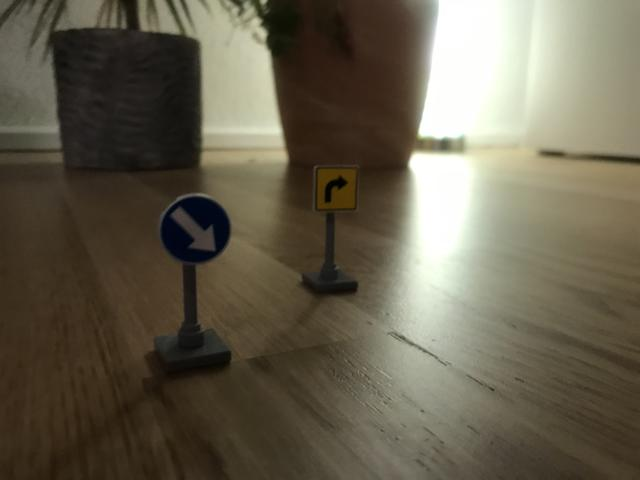fahrtrichtung rechts: (311, 163, 363, 215)
rechts halten: (160, 194, 232, 265)
